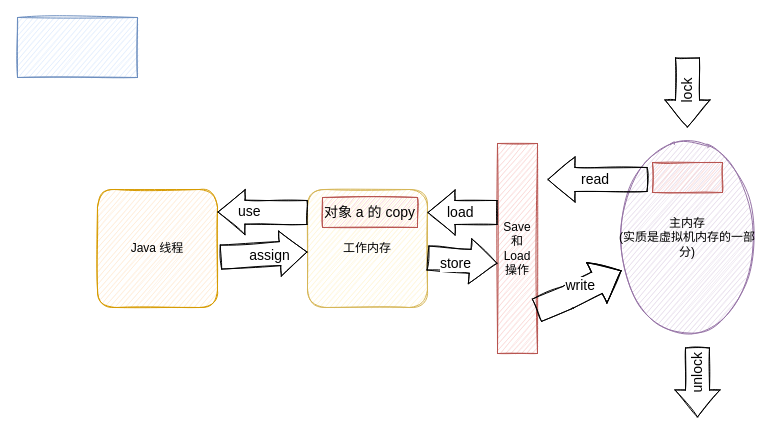
Some shapes in this 775 by 435 pixel diagram are drawn without their labels. Each missing label, with the centre of its shape:
"Java间内存交互" belongs at (x=77, y=47).
"对象 a" belongs at (x=687, y=177).
